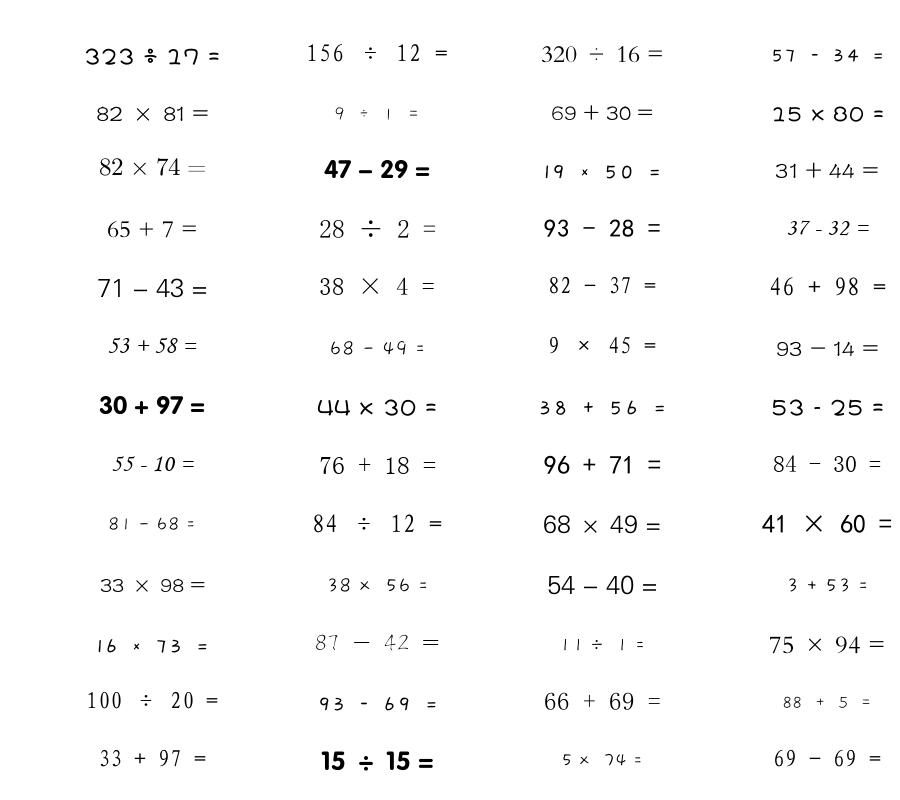MQ: (762, 514, 892, 534), (306, 44, 448, 62), (312, 514, 442, 533), (86, 691, 218, 709), (84, 48, 220, 65), (321, 751, 434, 771), (543, 515, 661, 534), (769, 277, 886, 296), (544, 455, 661, 474), (97, 278, 208, 298), (547, 575, 658, 595), (315, 634, 440, 651), (324, 159, 430, 179), (99, 395, 205, 415), (319, 220, 436, 238), (544, 219, 661, 237), (544, 692, 661, 710), (541, 46, 664, 63), (319, 277, 435, 295), (769, 636, 885, 654), (317, 399, 437, 416), (319, 457, 436, 474), (548, 276, 656, 294), (548, 336, 656, 354), (98, 749, 206, 767), (773, 749, 881, 767), (538, 400, 667, 415), (99, 158, 206, 176), (771, 399, 884, 416), (773, 455, 881, 472), (771, 106, 884, 122), (775, 162, 879, 179), (551, 104, 653, 121), (96, 106, 209, 121), (317, 697, 438, 711), (543, 165, 662, 179), (776, 341, 879, 357), (96, 639, 209, 653), (107, 221, 198, 238), (329, 340, 425, 356), (326, 578, 428, 593), (770, 49, 885, 62), (100, 578, 205, 592), (107, 337, 197, 353), (786, 220, 869, 236), (111, 456, 194, 472), (108, 517, 196, 531), (786, 578, 868, 593), (334, 107, 420, 121), (559, 638, 645, 652), (782, 696, 872, 709), (561, 753, 643, 767)
